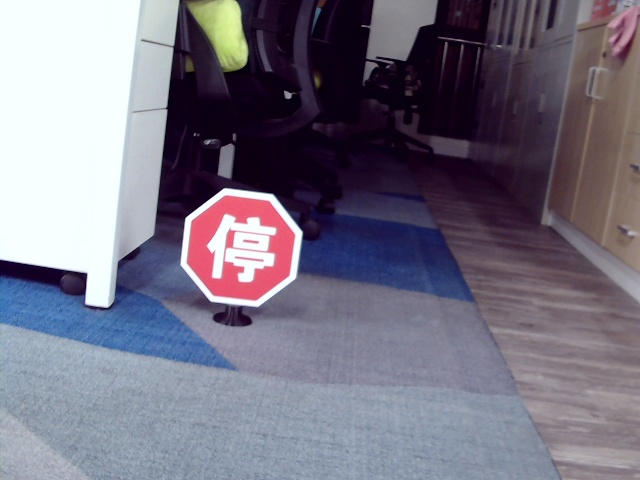stop: (205, 211, 276, 283)
